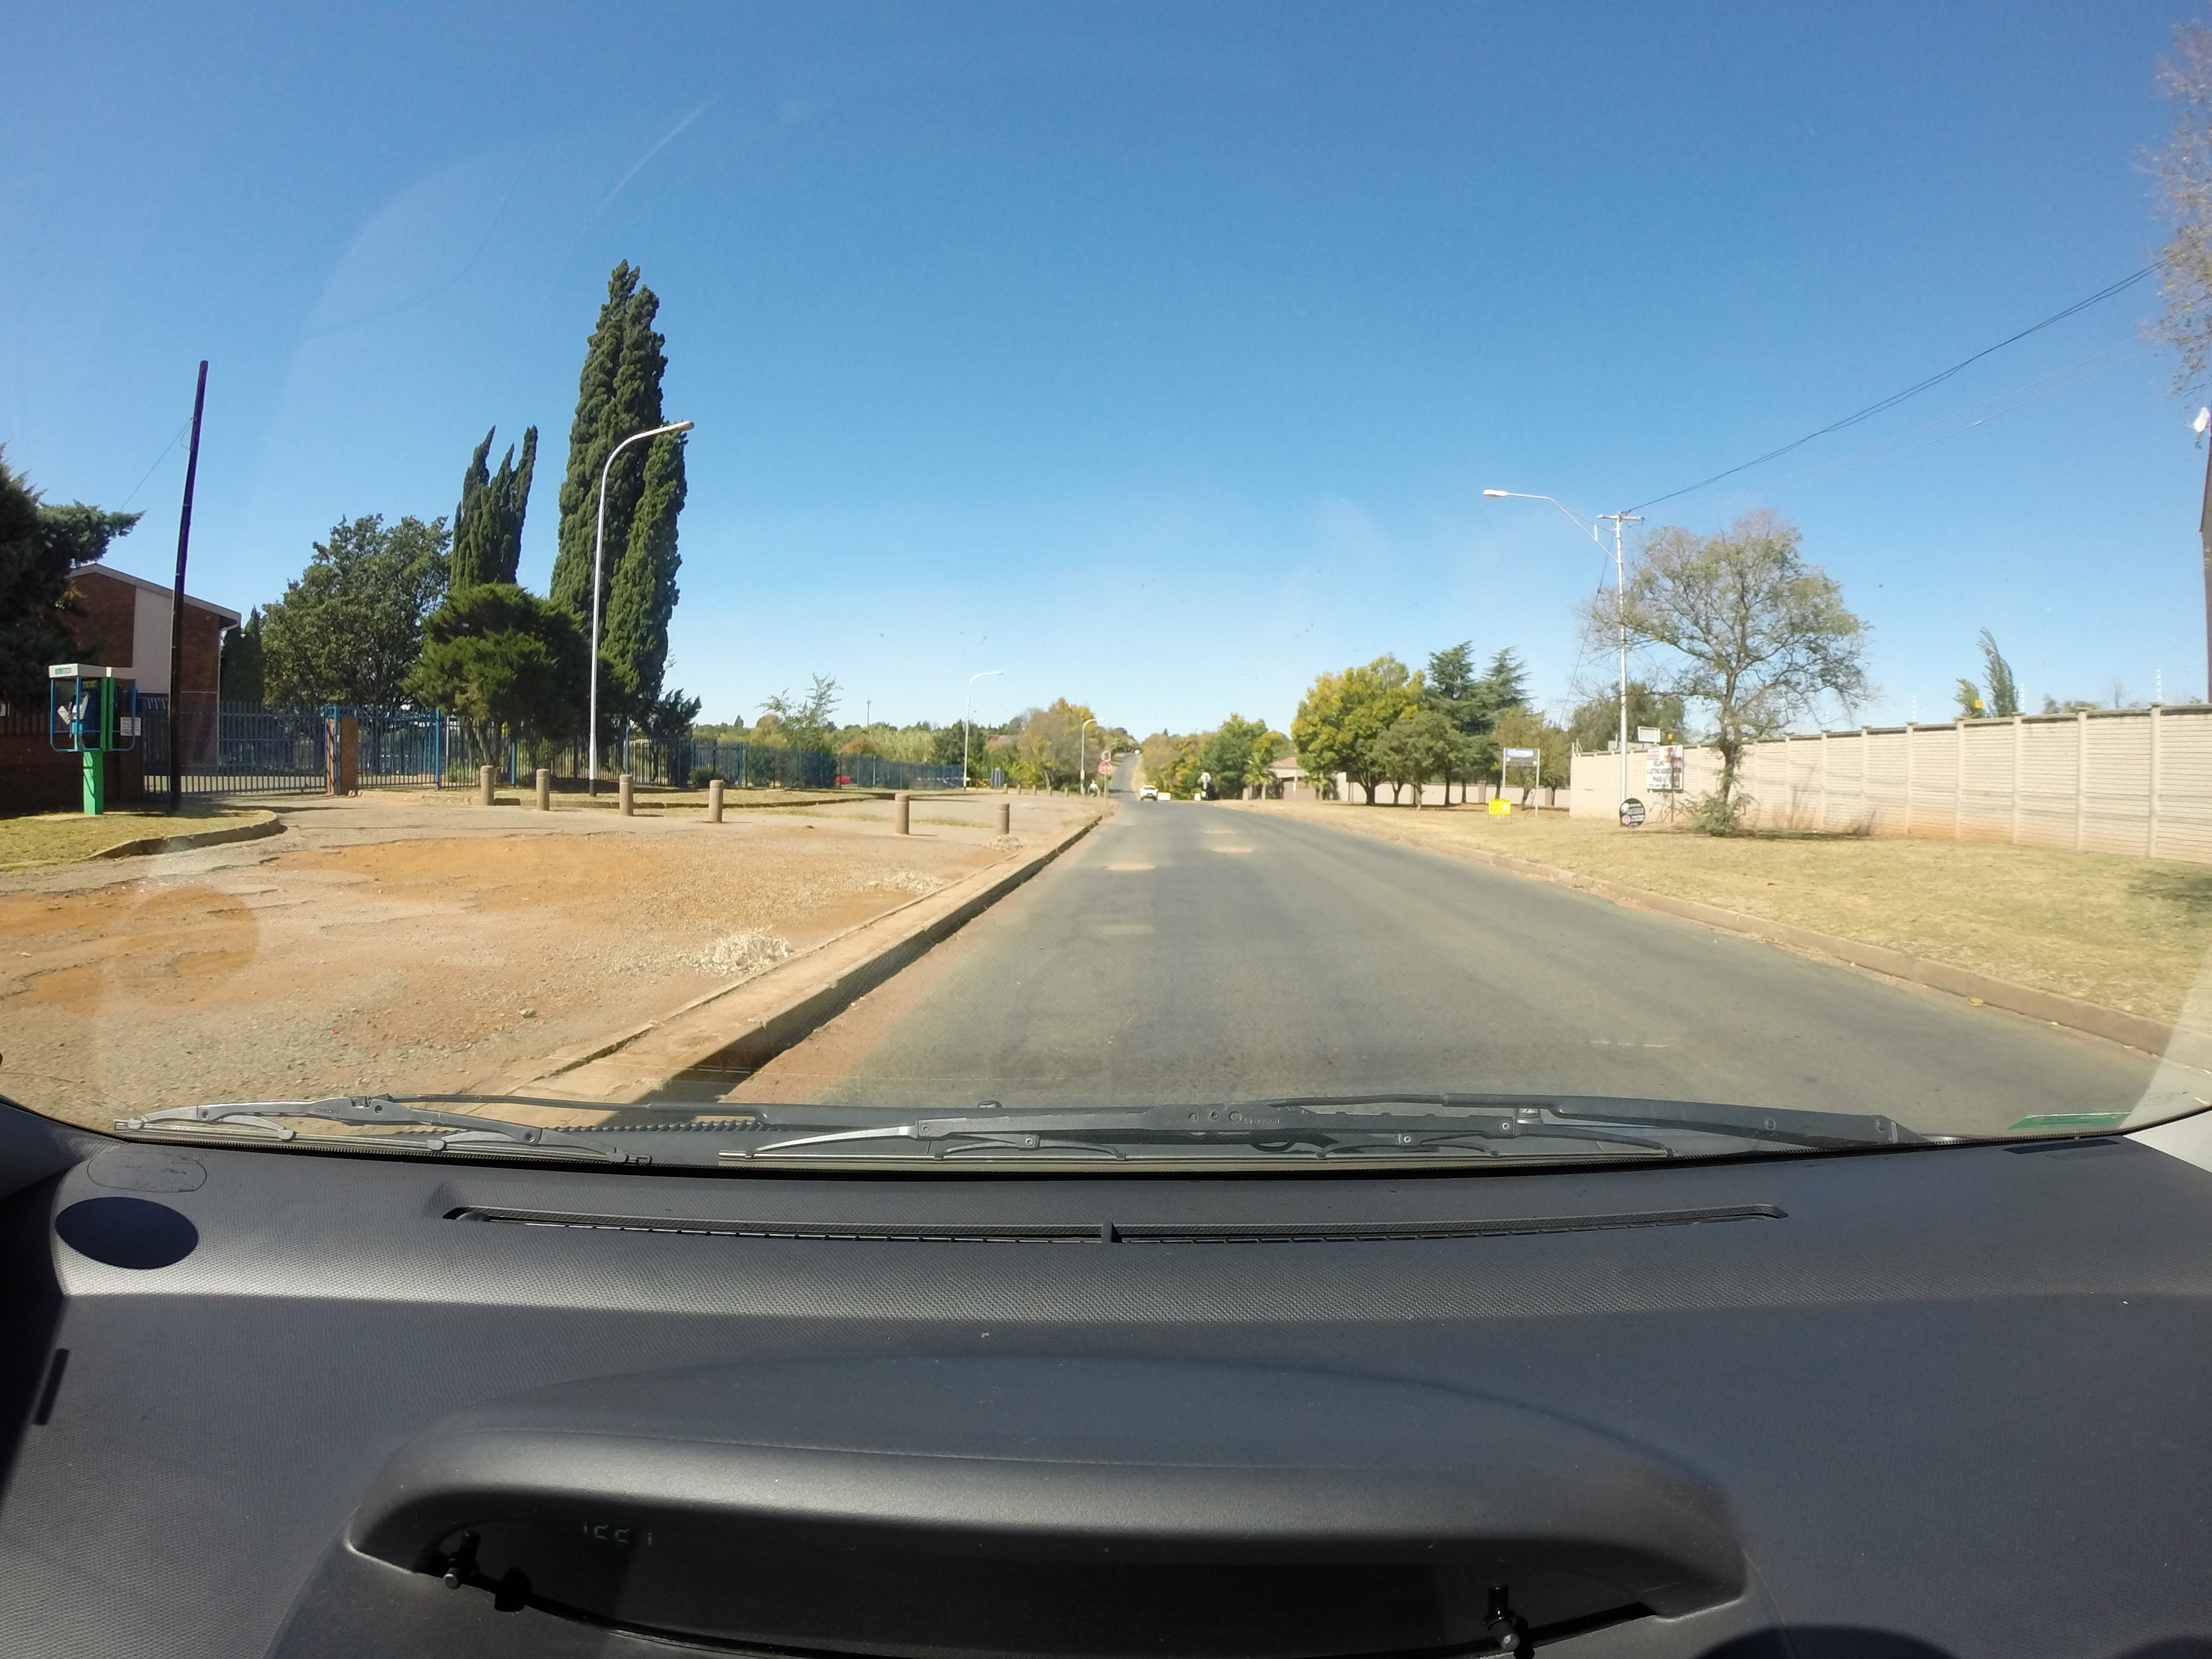pothole: (1207, 840, 1270, 866), (1106, 859, 1172, 880), (1200, 821, 1237, 840)
